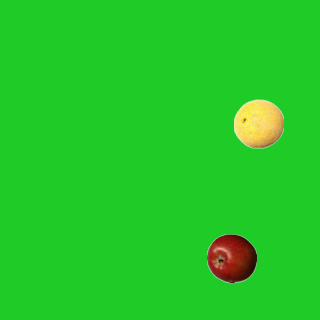Apple Braeburn: (206, 233, 256, 283)
Cantaloupe 1: (233, 98, 283, 148)
